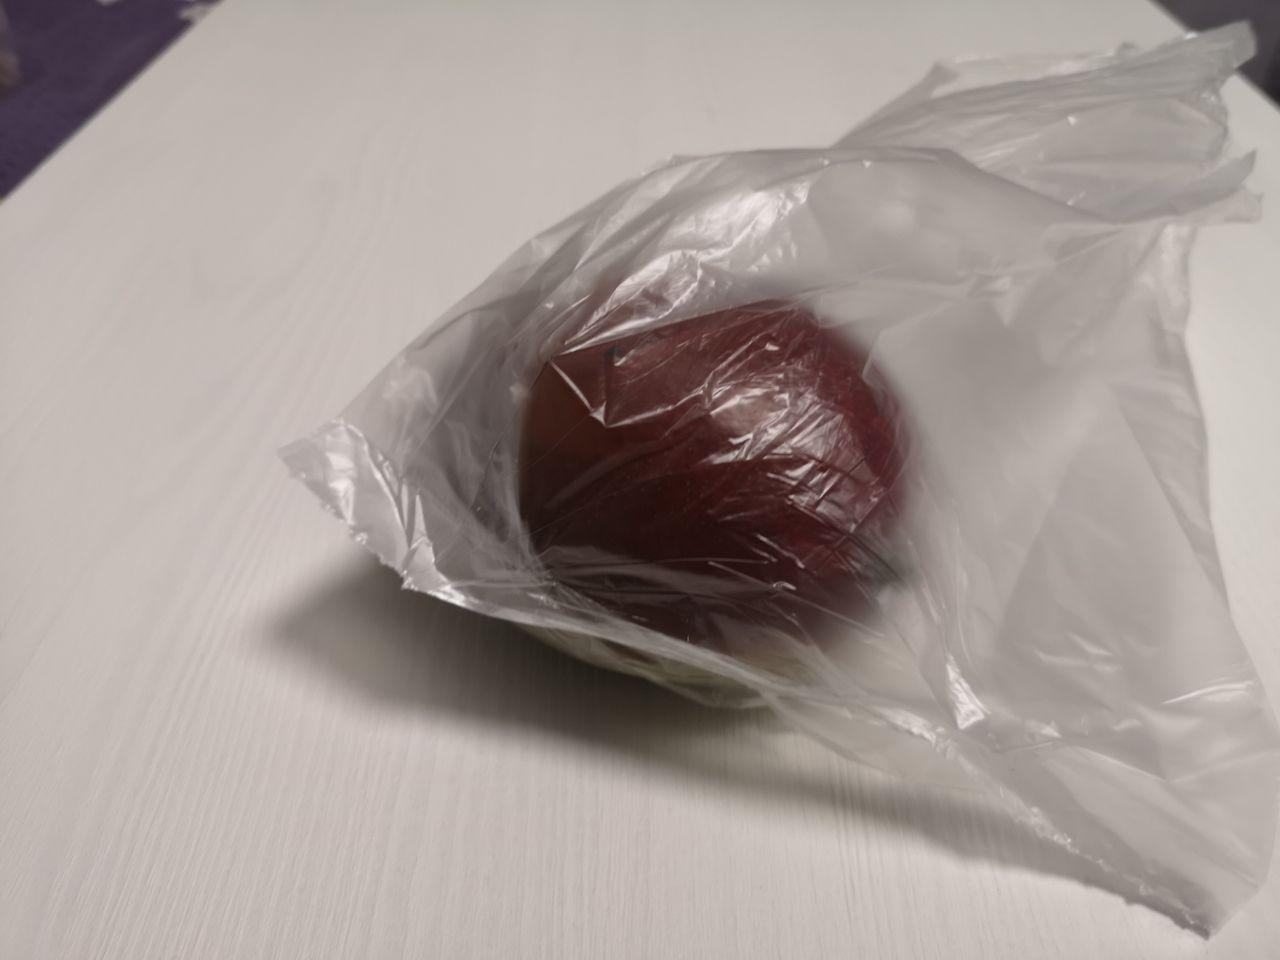mango: (268, 188, 1075, 844)
